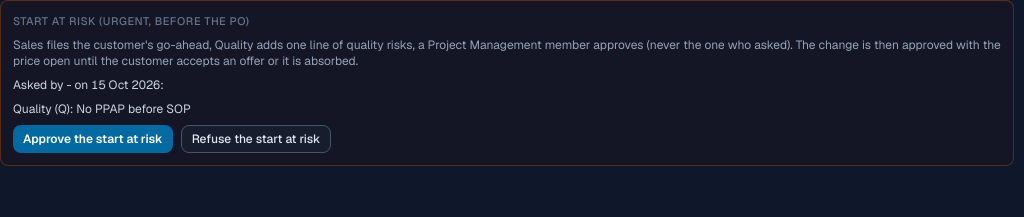
Scenario: StartAtRiskCard (§7a) › a PM member approves or refuses with why; a moot ask shows why, no button
The image size is (1024, 217).
Later steps or results of the test are not shown.
Expected: the button with test id "sar-approve" is shown, [13,125,173,153]
Click the button with test id "sar-refuse-open" at (256, 139), box [181,125,331,153]
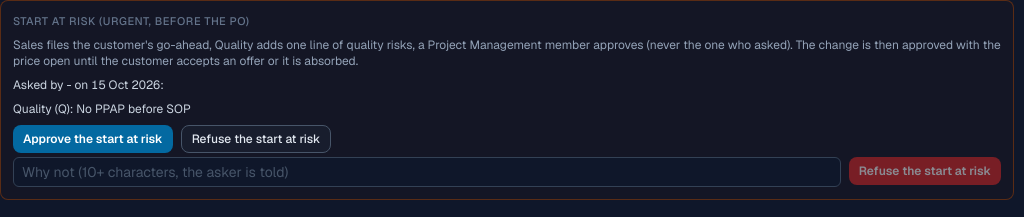
Type "no" into the field with test id "sar-refuse-note" at (427, 172), box [13,157,841,187]
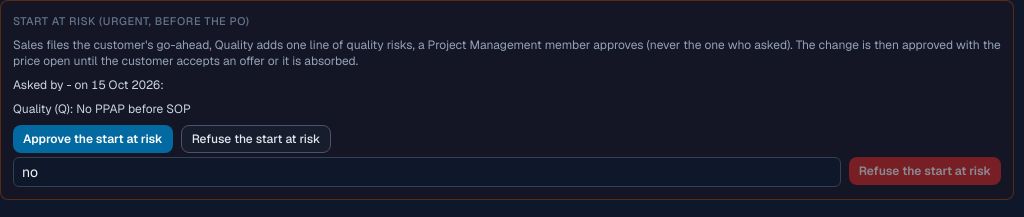
Now the button with test id "sar-refuse" is disabled, box [849,157,1001,185]
